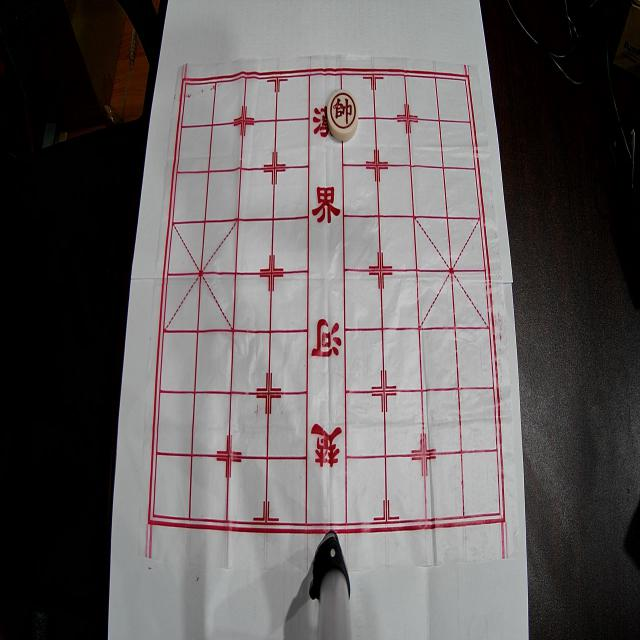red-general: (327, 90, 358, 141)
